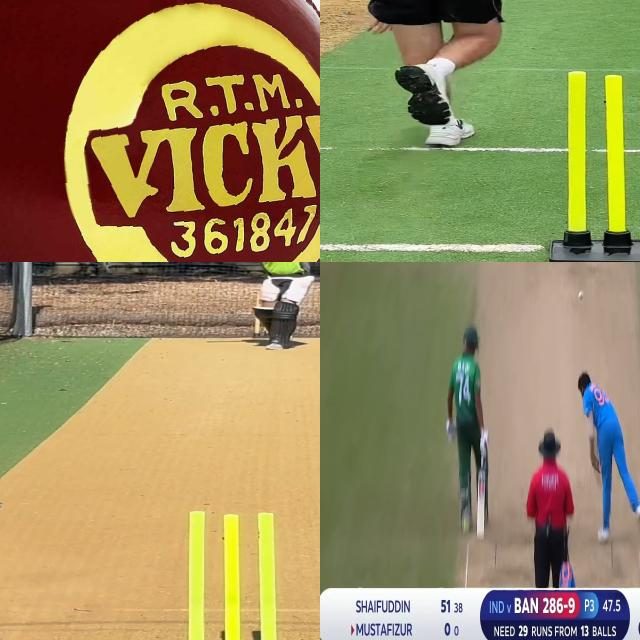Cricket ball: (0, 0, 320, 262), (578, 288, 586, 303)
Stumps: (544, 67, 640, 262)
